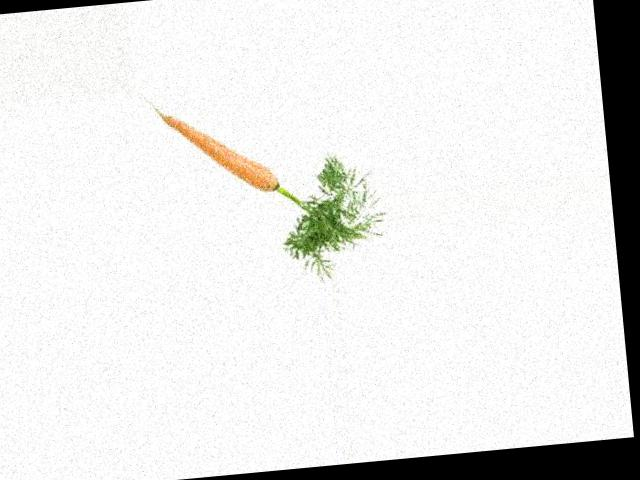carrot: (153, 98, 285, 204)
